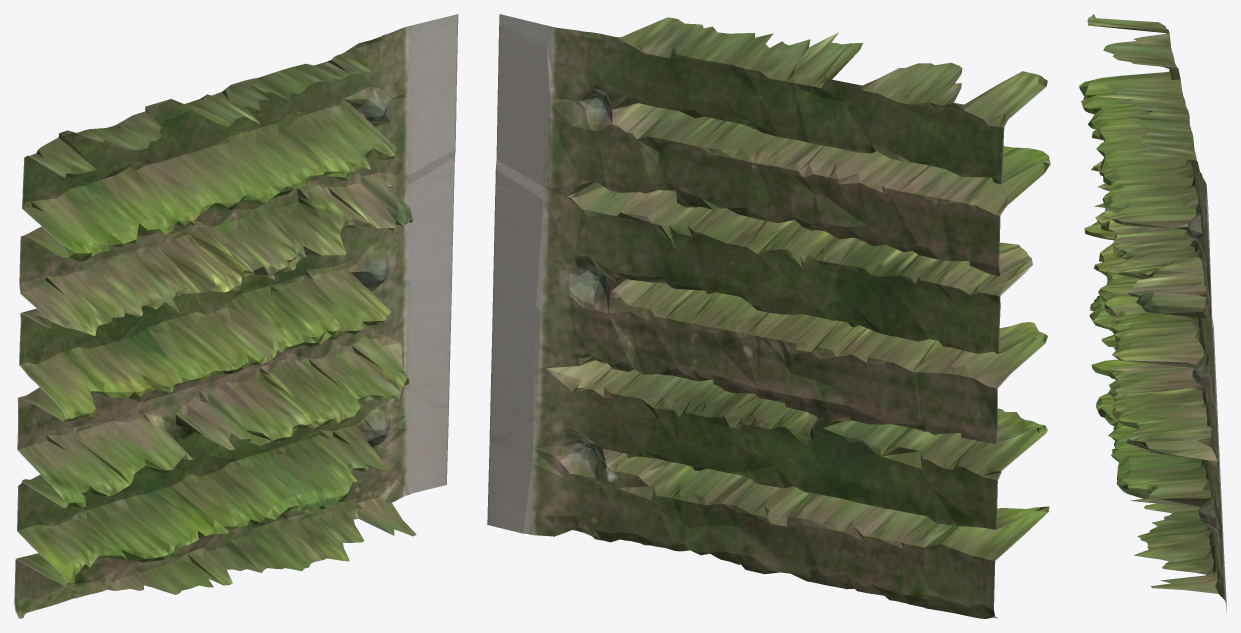
File: map_70_80.obj
The picture shows the model from 3 angles, left to right: view 1: azimuth 30°, elevation 25°; view 2: azimuth 150°, elevation 25°; view 3: azimuth 270°, elevation 25°; orthographic projection. The views are drawn at different scales.
Parts seen in each view (by area): view 1: grp1; view 2: grp1; view 3: grp1.
Part boxes in pixels (box(x1,y1,x2,y2)): grp1: box(14, 14, 458, 618); grp1: box(487, 14, 1050, 618); grp1: box(1079, 14, 1226, 618).
Size of the model in its own units: 10 by 10 by 3.24.
1 material, 1 textured.
